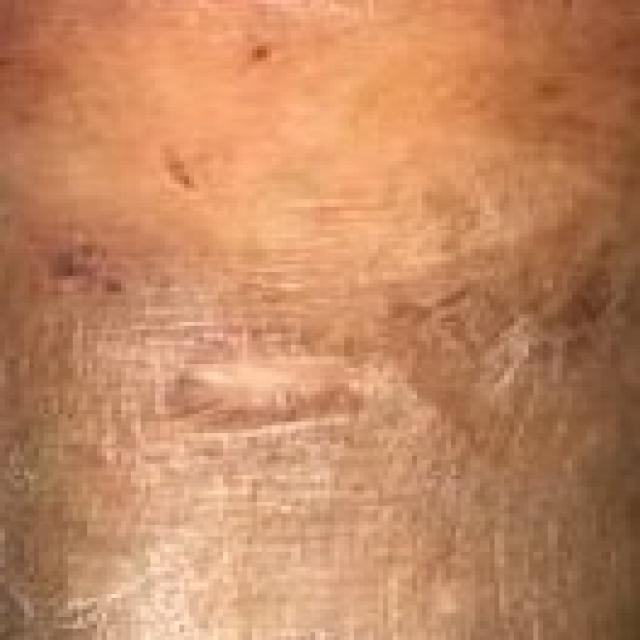wound: (107, 172, 410, 502)
